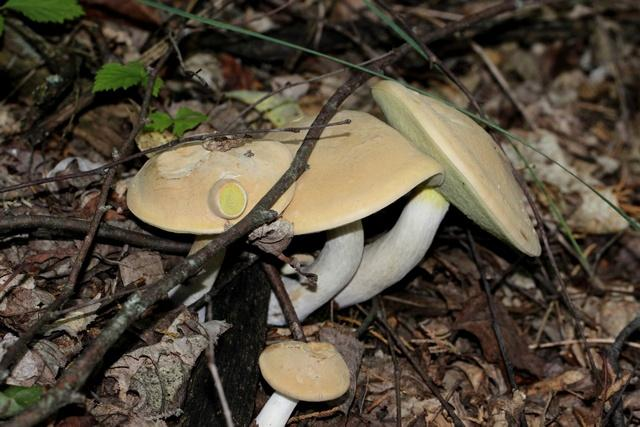edible_mushroom: (253, 71, 541, 327), (125, 135, 297, 322), (253, 338, 351, 426)
